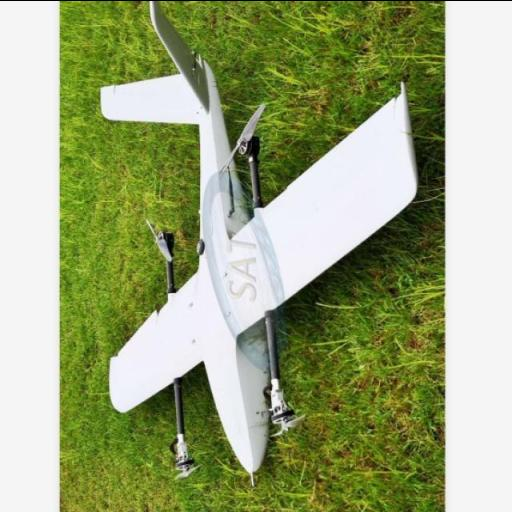uav: (94, 0, 427, 491)
